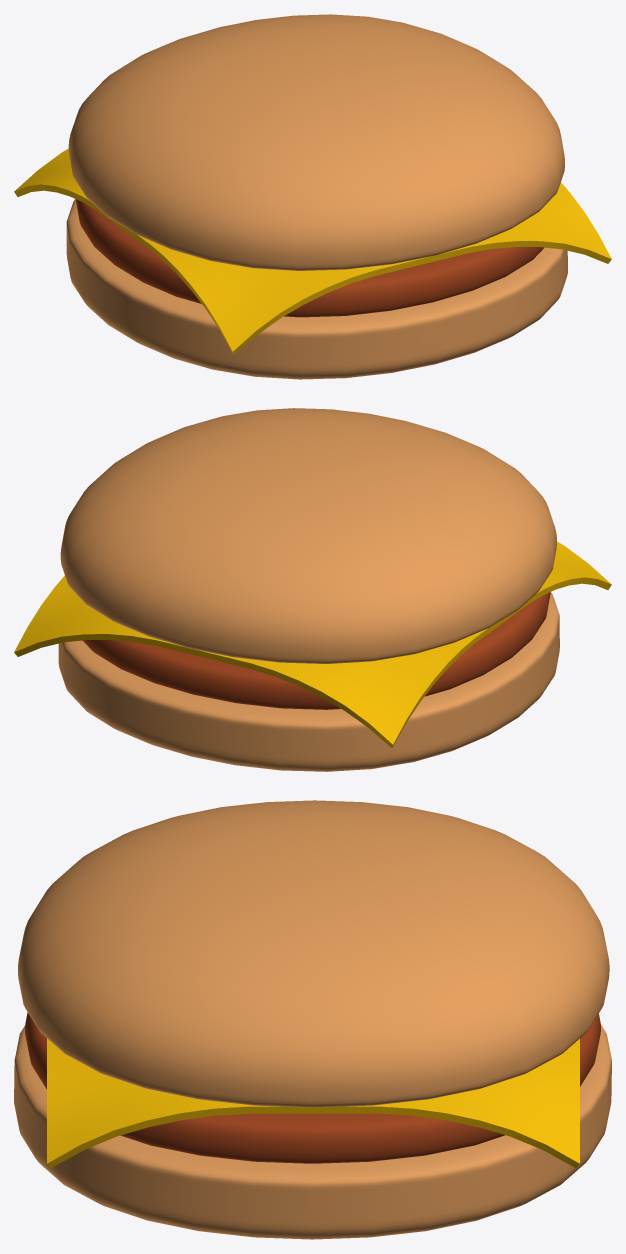
The model's file is hamburger.glb.
3 views of the same model, one above another, from view 1: azimuth 30°, elevation 25°; view 2: azimuth 150°, elevation 25°; view 3: azimuth 270°, elevation 25° (orthographic). The views are drawn at different scales.
Visible parts, largest first — view 1: Cube.002, Cube, Plane, Cube.001; view 2: Cube.002, Cube, Plane, Cube.001; view 3: Cube.002, Cube, Plane, Cube.001.
Part boxes in pixels (<box>): Cube.002: <box>68,14,564,270</box>; Cube: <box>66,199,567,379</box>; Plane: <box>14,148,611,354</box>; Cube.001: <box>75,199,543,317</box>; Cube.002: <box>60,408,556,663</box>; Cube: <box>58,592,559,771</box>; Plane: <box>14,541,611,747</box>; Cube.001: <box>82,592,550,709</box>; Cube.002: <box>18,800,609,1107</box>; Cube: <box>14,1025,611,1239</box>; Plane: <box>47,1038,579,1168</box>; Cube.001: <box>25,1012,600,1163</box>.
Bounding box in the file's own units: 9.13 × 4.66 × 9.13.
